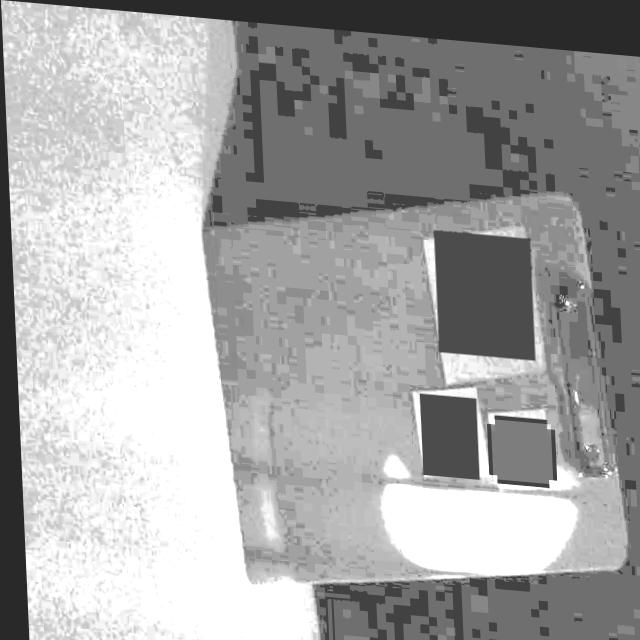qr_code: (431, 222, 532, 351), (415, 386, 475, 471), (486, 410, 548, 474)
